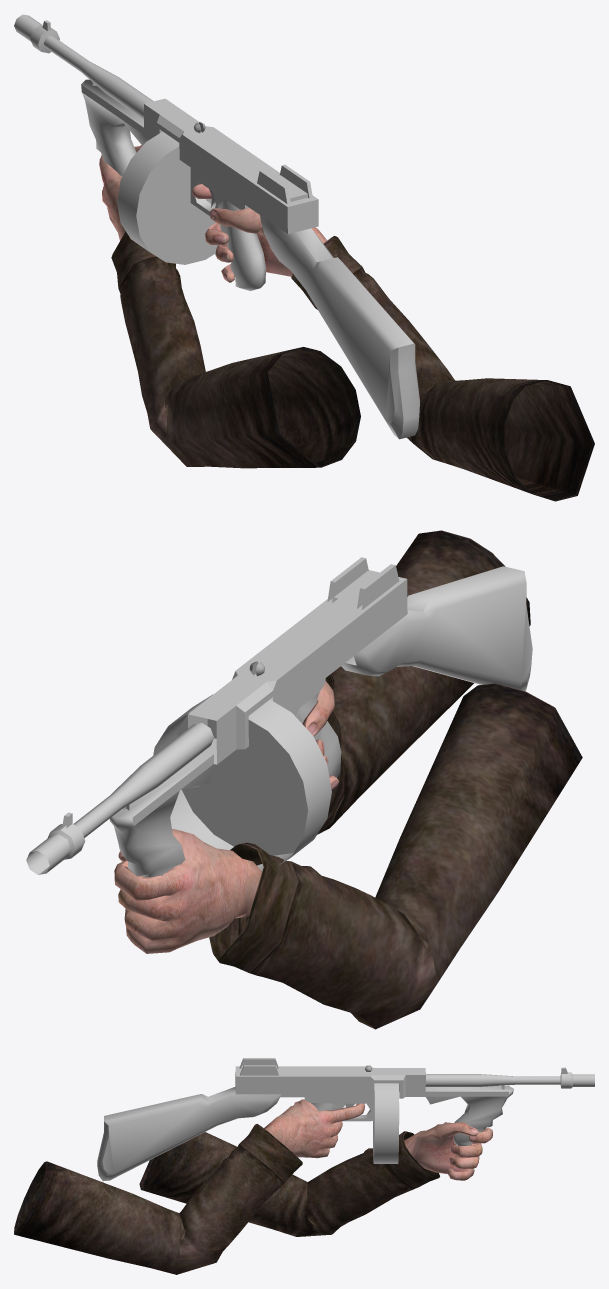
Rendered from Hands_with_TommyGun_sm.FBX.
The picture shows the model from 3 angles, top to bottom: view 1: azimuth 30°, elevation 25°; view 2: azimuth 150°, elevation 25°; view 3: azimuth 270°, elevation 25°; orthographic projection. The views are drawn at different scales.
Visible parts, largest first — view 1: DrawCall_0505, DrawCall_0509, DrawCall_0508, DrawCall_0503, DrawCall_0507, DrawCall_0506; view 2: DrawCall_0509, DrawCall_0505, DrawCall_0508, DrawCall_0503, DrawCall_0506, DrawCall_0507; view 3: DrawCall_0508, DrawCall_0505, DrawCall_0509, DrawCall_0507, DrawCall_0506, DrawCall_0503.
Part boxes in pixels (box(x1,y1,x2,y2)): DrawCall_0505: box(14, 14, 419, 439); DrawCall_0509: box(111, 231, 360, 468); DrawCall_0508: box(291, 236, 594, 501); DrawCall_0503: box(117, 131, 218, 264); DrawCall_0507: box(192, 184, 326, 282); DrawCall_0506: box(99, 145, 142, 240); DrawCall_0509: box(209, 683, 582, 1029); DrawCall_0505: box(26, 557, 532, 877); DrawCall_0508: box(317, 530, 530, 834); DrawCall_0503: box(153, 694, 331, 871); DrawCall_0506: box(114, 829, 262, 953); DrawCall_0507: box(302, 681, 338, 789); DrawCall_0508: box(14, 1124, 302, 1274); DrawCall_0505: box(97, 1058, 594, 1181); DrawCall_0509: box(139, 1131, 439, 1236); DrawCall_0507: box(264, 1099, 364, 1158); DrawCall_0506: box(404, 1122, 492, 1180); DrawCall_0503: box(373, 1083, 399, 1163).
Size of the model in its own units: 15.93 by 20.21 by 54.95.
